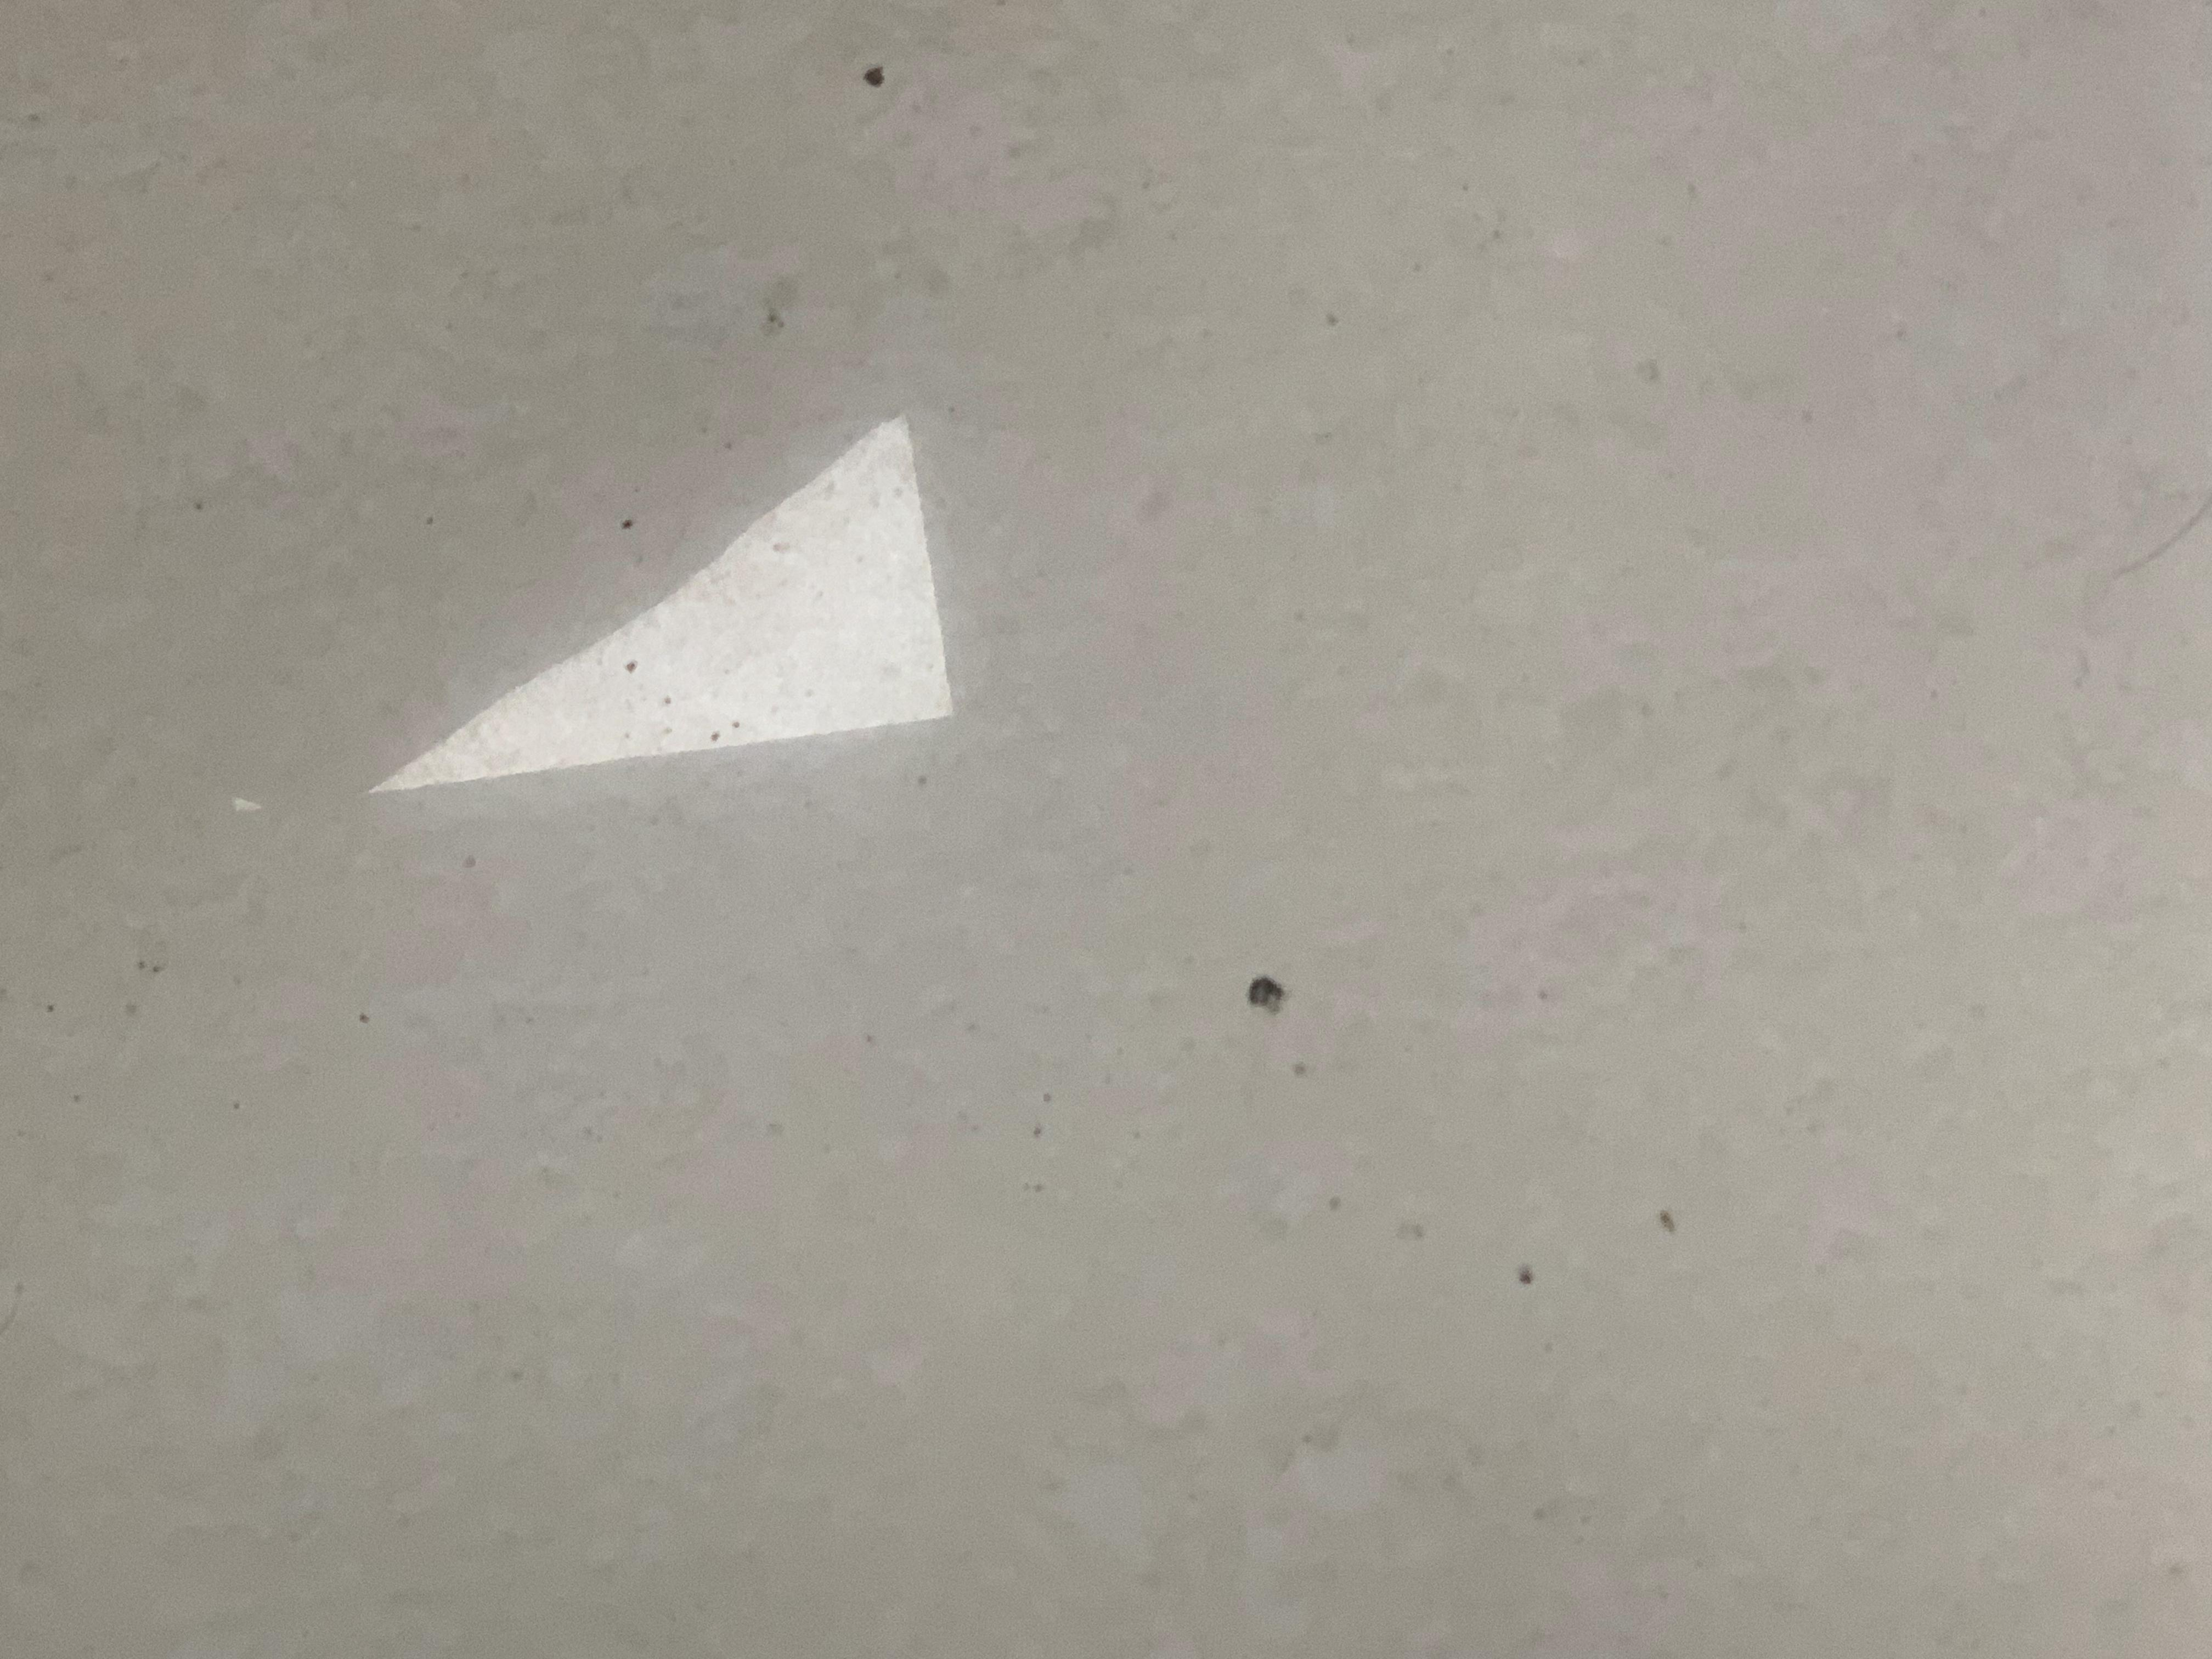grey spot: (1247, 974, 1282, 1016), (862, 68, 887, 87), (1660, 1211, 1676, 1234), (1517, 1265, 1534, 1284), (624, 660, 637, 674), (622, 519, 632, 528), (664, 695, 672, 704), (712, 732, 721, 741), (733, 721, 740, 728)
reflection: (362, 411, 958, 793)
